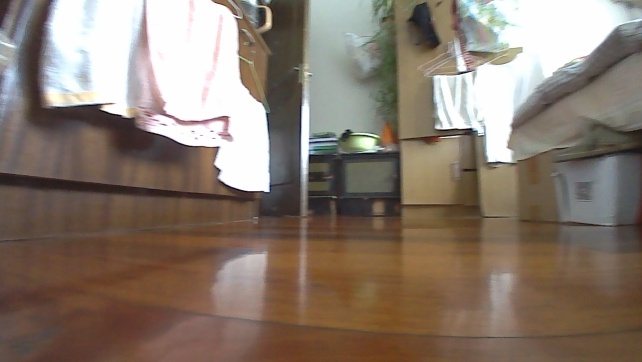bed1: (502, 15, 641, 227)
door_anno: (258, 0, 313, 225)
